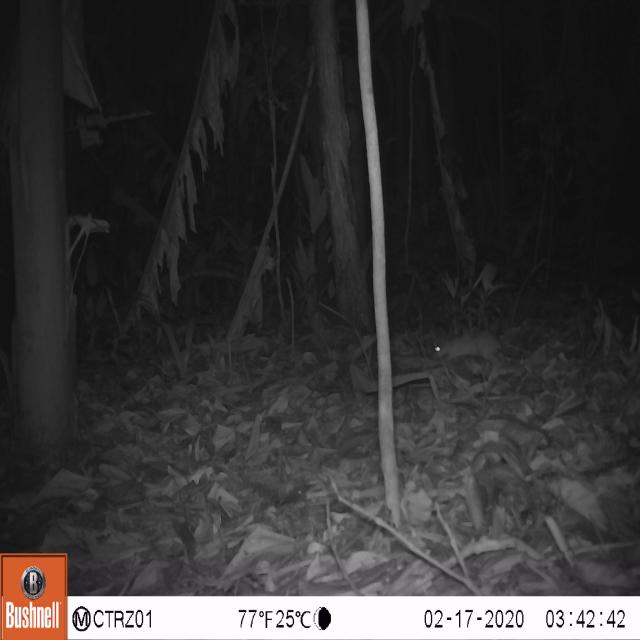Rodent: (391, 296, 539, 405)
